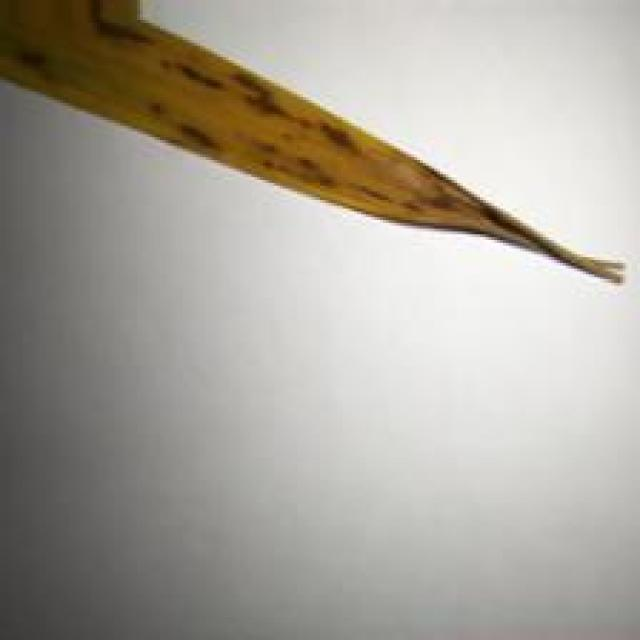Narrow_Brown_Leaf_Spot: (0, 0, 634, 292)
